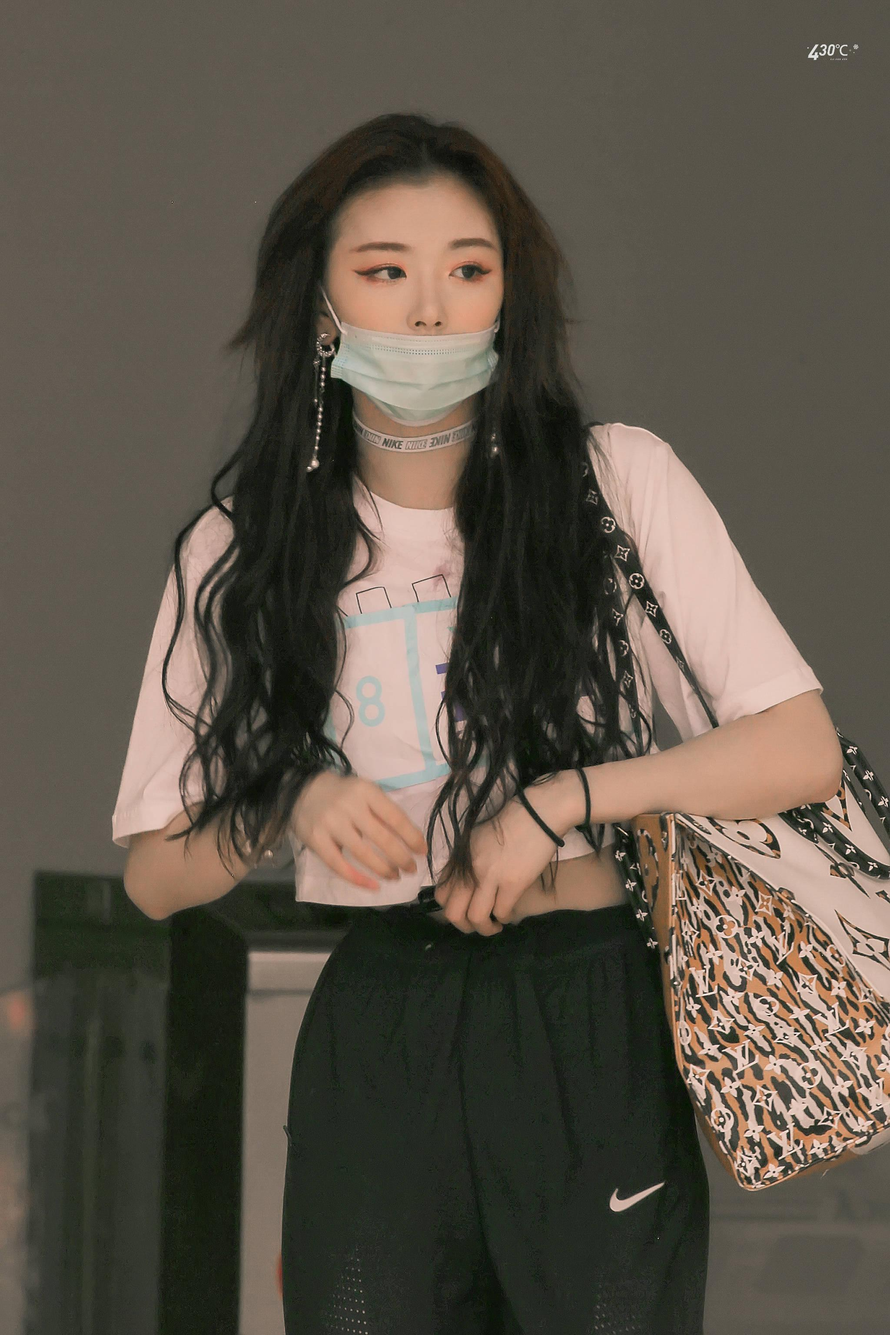WRONG: (331, 210, 506, 410)
